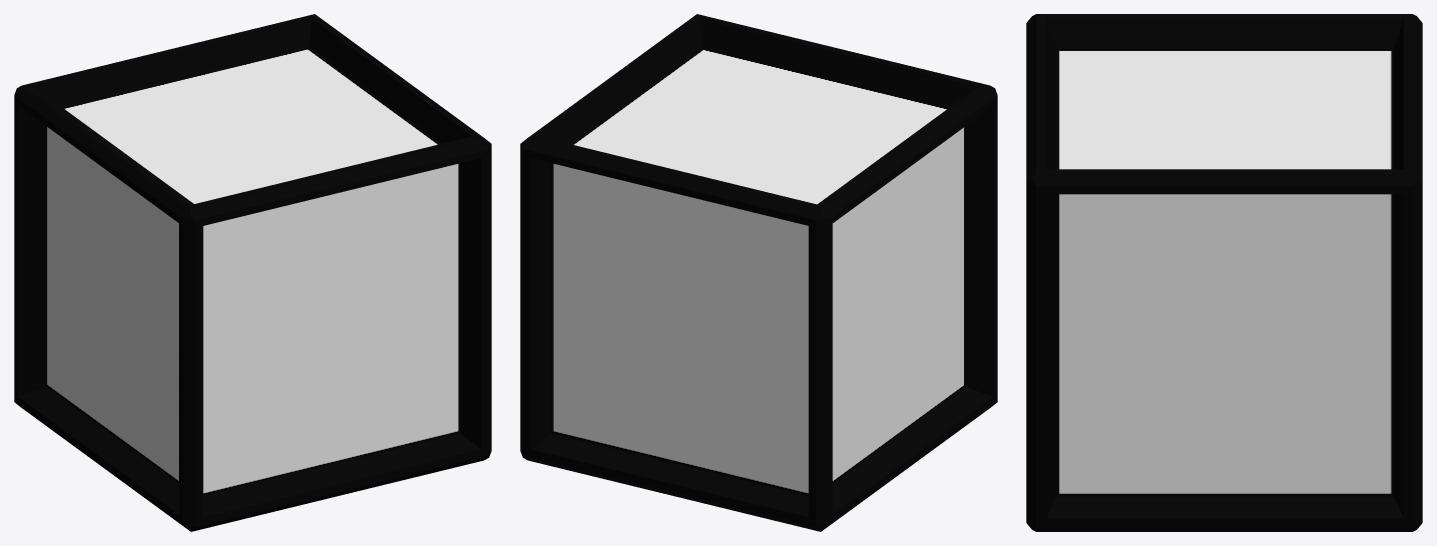
File: Enemy Cube.fbx
3 views of the same model, side by side, from view 1: azimuth 30°, elevation 25°; view 2: azimuth 150°, elevation 25°; view 3: azimuth 270°, elevation 25° (orthographic). The views are drawn at different scales.
Visible parts, largest first — view 1: EnemyCube; view 2: EnemyCube; view 3: EnemyCube.
Boxes of the visible parts, x1=… form: EnemyCube: x1=14, y1=14, x2=491, y2=531; EnemyCube: x1=520, y1=14, x2=997, y2=531; EnemyCube: x1=1026, y1=14, x2=1422, y2=531.
Bounding box in the file's own units: 200 × 200 × 200.
1 material, 1 textured.
